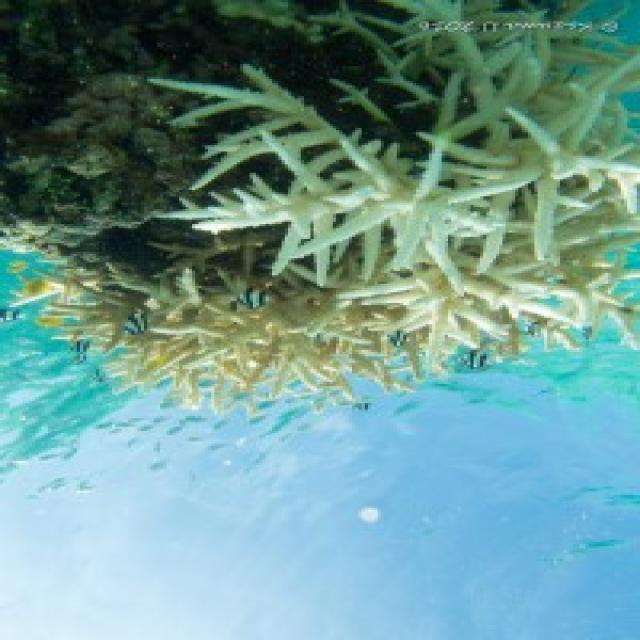Bleached: (192, 1, 636, 411), (16, 263, 182, 410)
Healthy: (1, 1, 187, 252)
